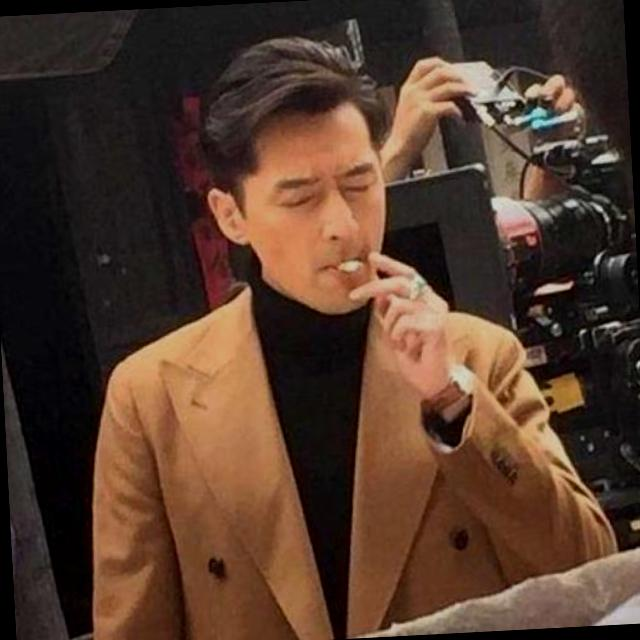smoke: (338, 260, 364, 274)
